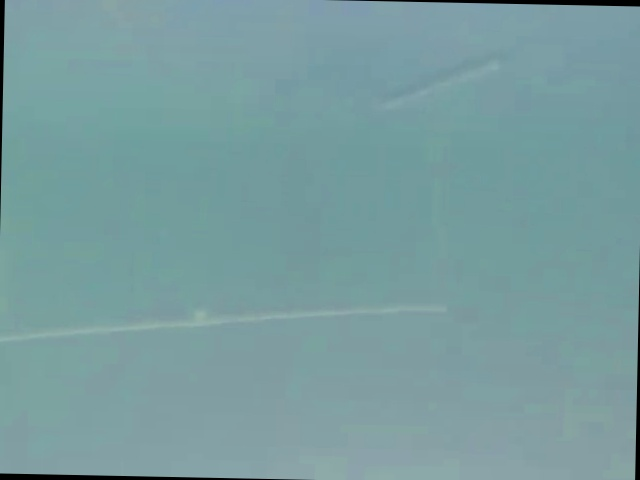gate: (0, 44, 513, 350)
